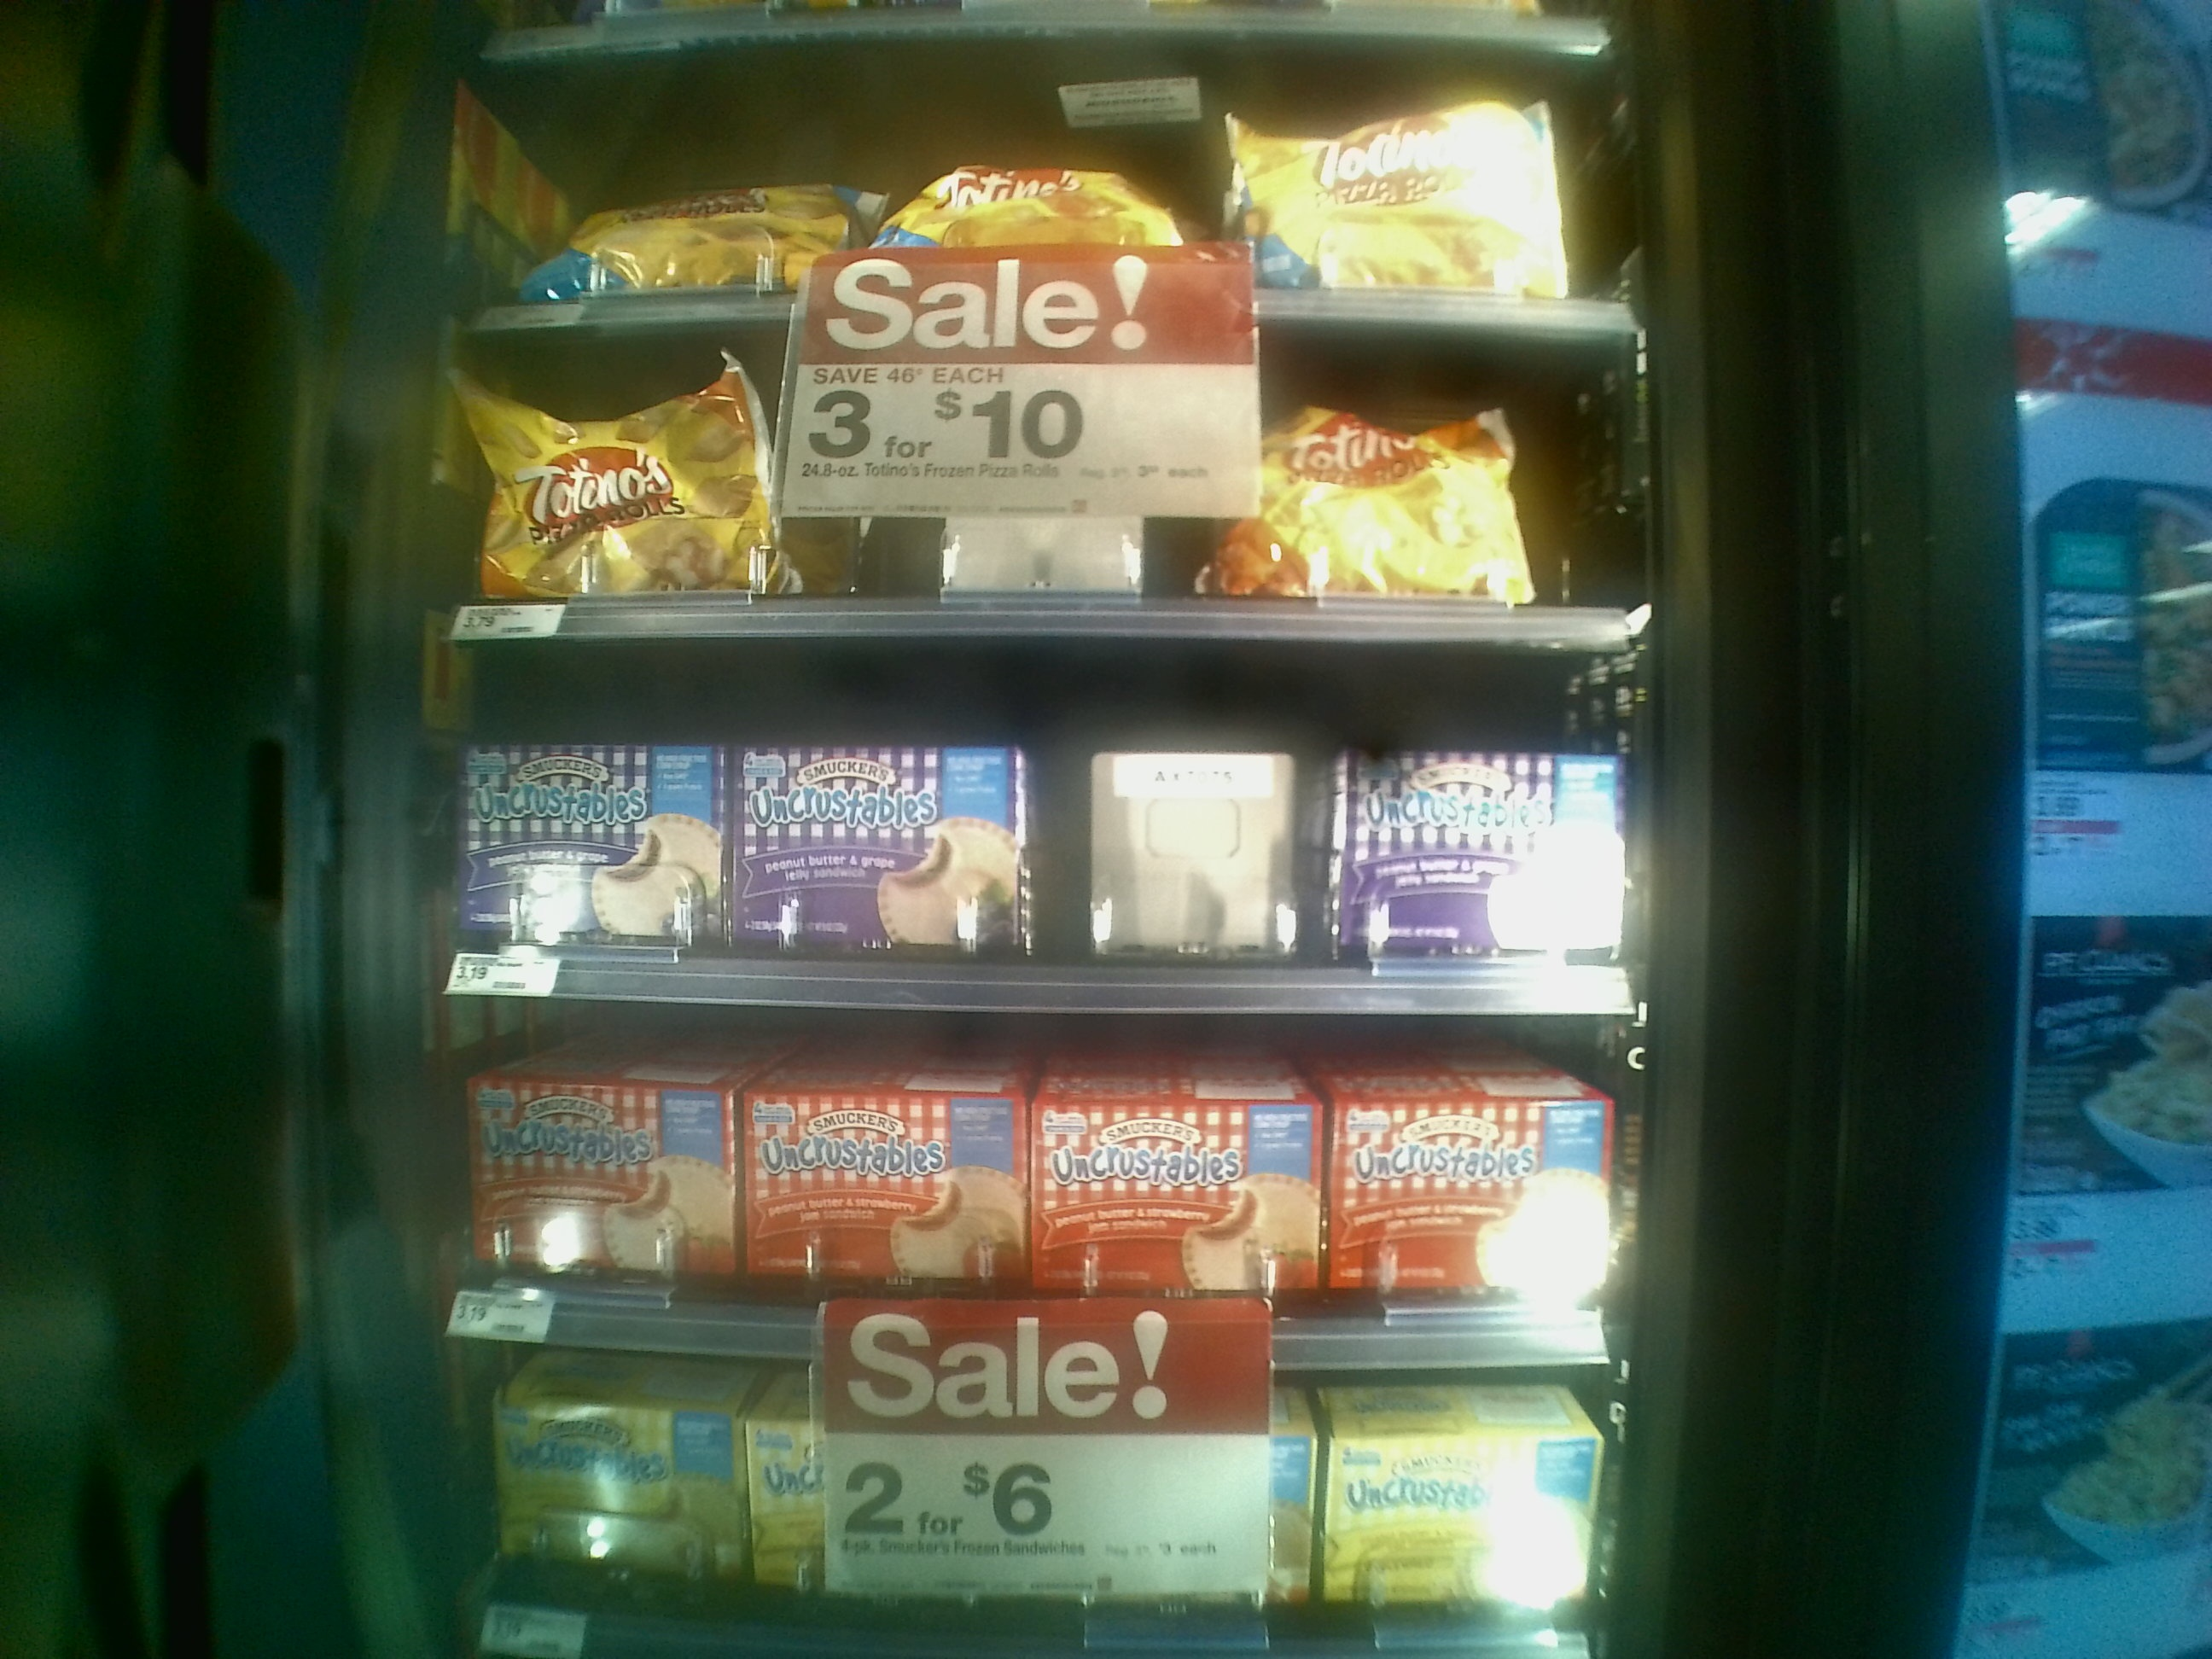shelf: (423, 613, 1630, 1014), (427, 978, 1613, 1358), (435, 314, 1639, 652)
